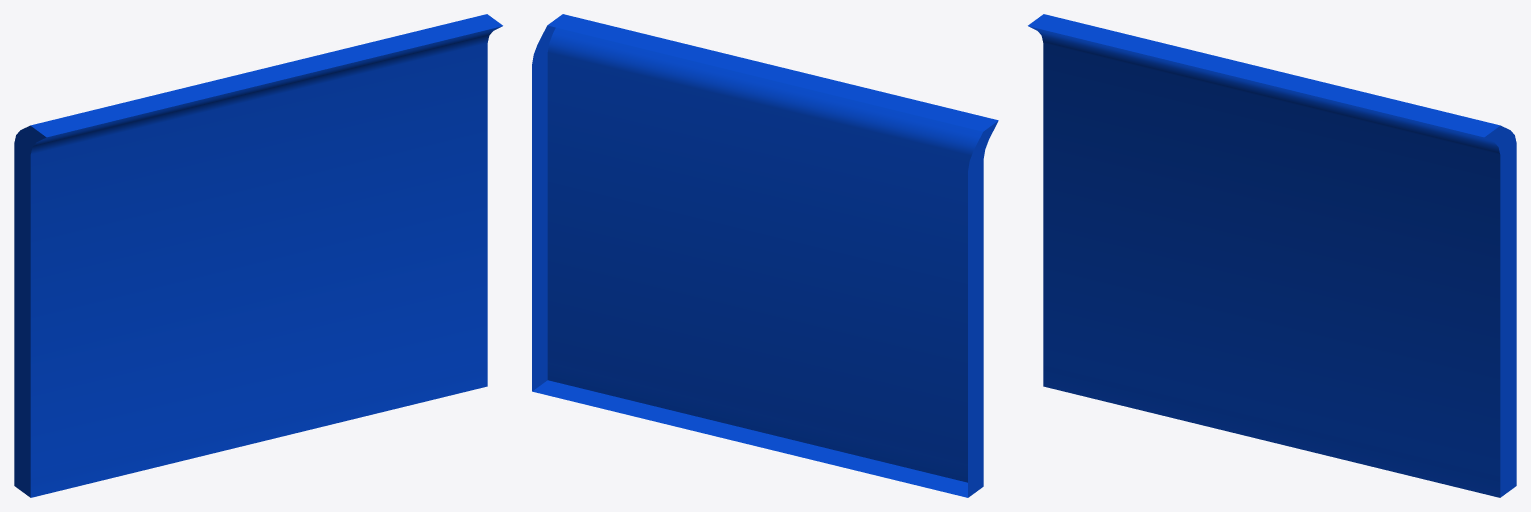
The model's file is WallMorgueHallway.fbx.
The picture shows the model from 3 angles, left to right: view 1: azimuth 30°, elevation 25°; view 2: azimuth 150°, elevation 25°; view 3: azimuth 330°, elevation 25°; orthographic projection. The views are drawn at different scales.
Visible parts, largest first — view 1: wall; view 2: wall; view 3: wall.
Boxes of the visible parts, bbox=[...] form: wall: bbox=[14, 14, 502, 497]; wall: bbox=[532, 14, 998, 497]; wall: bbox=[1028, 14, 1516, 497].
Bounding box in the file's own units: 273 × 350 × 42.79.
